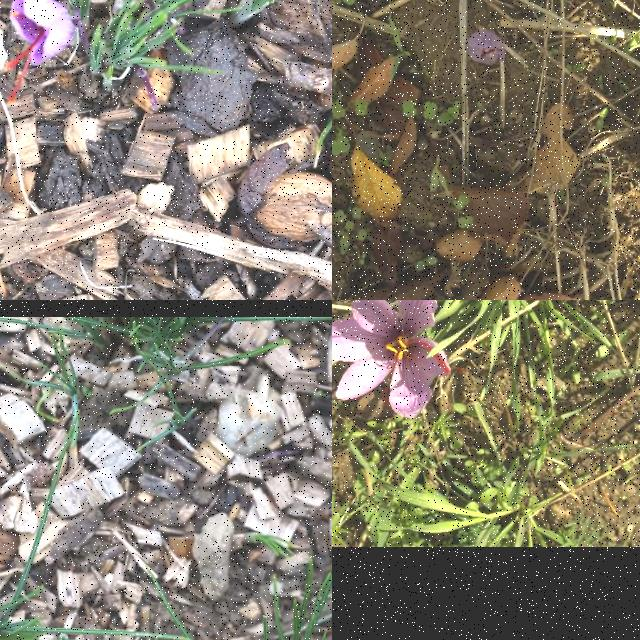flower: (332, 300, 452, 418), (4, 0, 74, 103), (466, 28, 506, 66)
